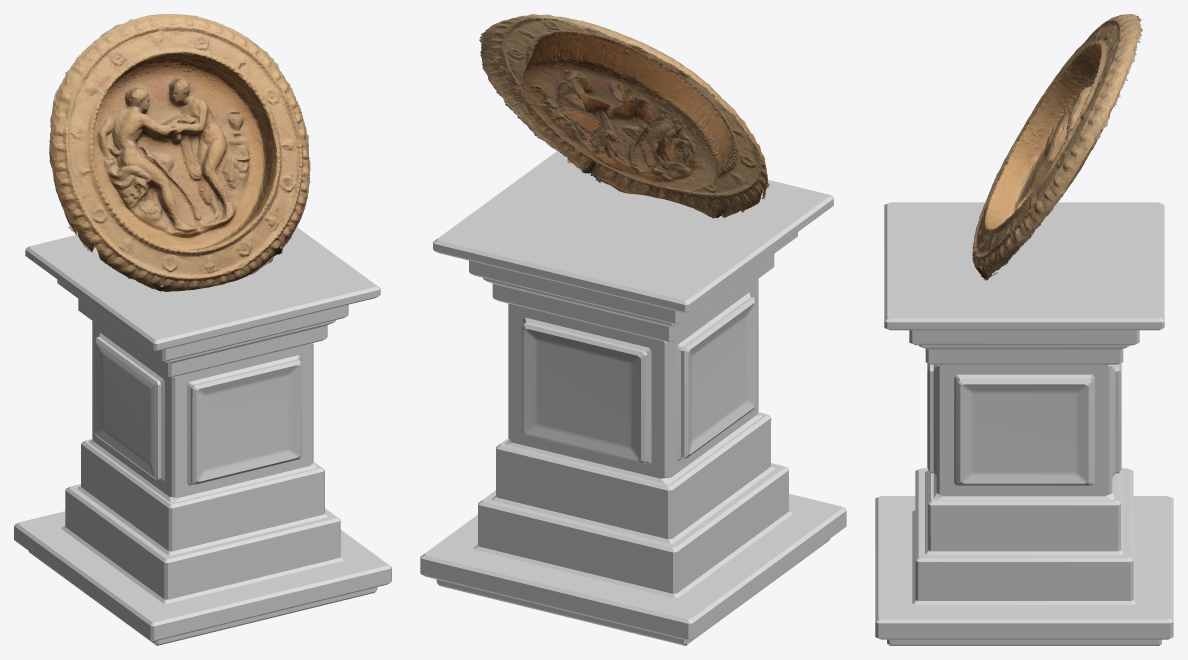
The model's file is dish1.fbx.
3 renders of one model, left to right at view 1: azimuth 30°, elevation 25°; view 2: azimuth 150°, elevation 25°; view 3: azimuth 270°, elevation 25°, orthographic. The views are drawn at different scales.
Visible parts, largest first — view 1: Pedestal, plat_-_LowPoly; view 2: Pedestal, plat_-_LowPoly; view 3: Pedestal, plat_-_LowPoly.
Part boxes in pixels (bbox=[...]): Pedestal: bbox=[14, 227, 391, 645]; plat_-_LowPoly: bbox=[49, 14, 310, 291]; Pedestal: bbox=[420, 151, 846, 645]; plat_-_LowPoly: bbox=[479, 14, 769, 218]; Pedestal: bbox=[875, 202, 1173, 645]; plat_-_LowPoly: bbox=[972, 14, 1143, 280].
Size of the model in its own units: 9.78 by 19.31 by 9.4.
